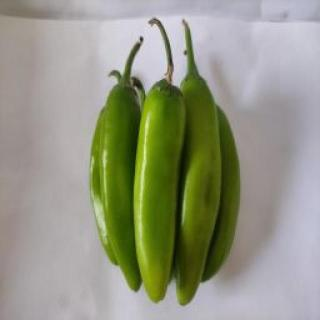Cabai Hijau: (132, 14, 188, 308)
